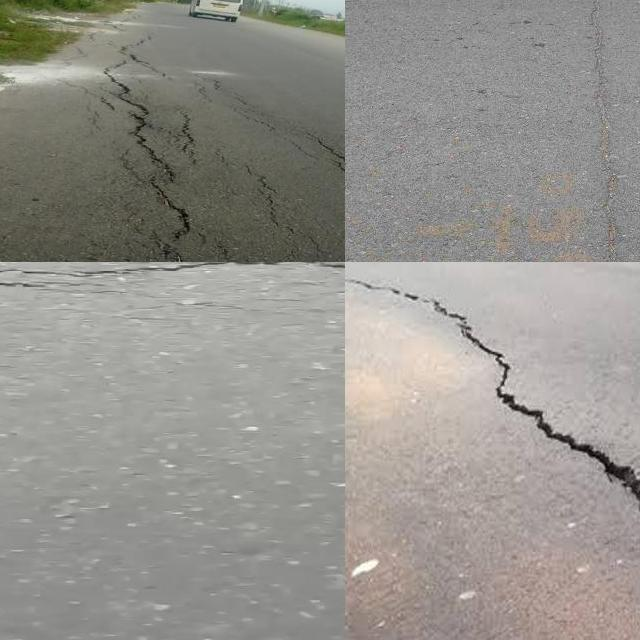Melintang: (0, 262, 345, 294)
Memanjang: (345, 269, 640, 531), (96, 40, 217, 262), (576, 0, 640, 262)
